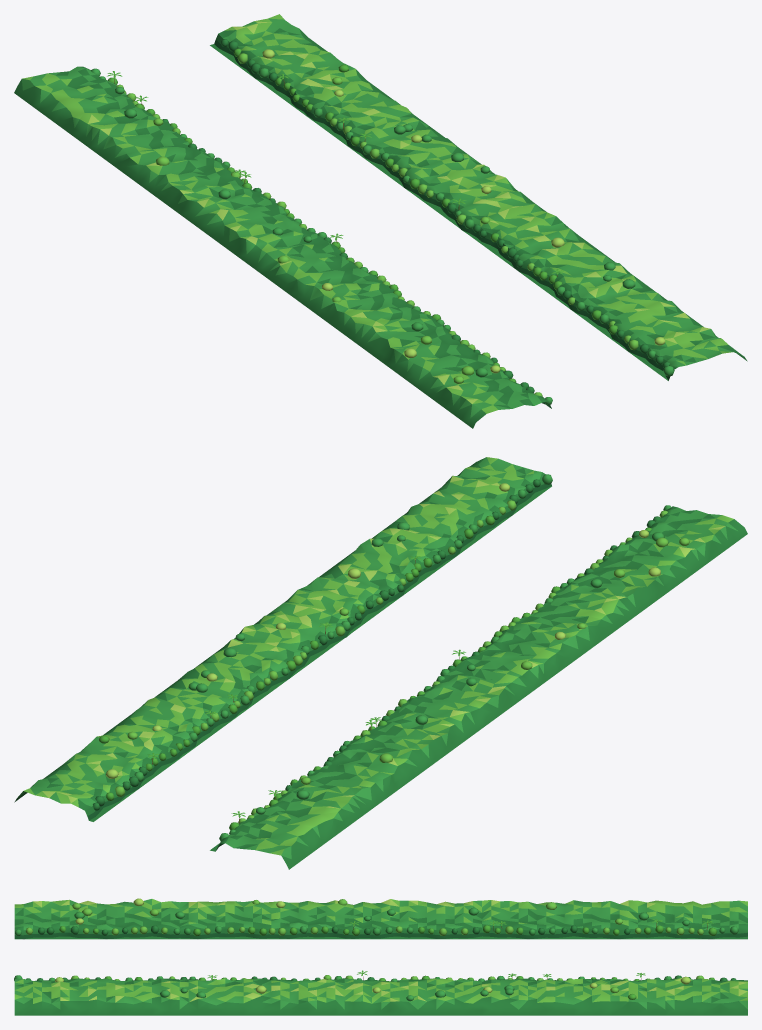
The model's file is BordeJungla.fbx.
The picture shows the model from 3 angles, top to bottom: view 1: azimuth 30°, elevation 25°; view 2: azimuth 150°, elevation 25°; view 3: azimuth 270°, elevation 25°; orthographic projection. The views are drawn at different scales.
Parts seen in each view (by area): view 1: BordeJungla; view 2: BordeJungla; view 3: BordeJungla.
Part boxes in pixels (x1,y1,x2,y2): BordeJungla: (14,14,747,428); BordeJungla: (14,457,747,869); BordeJungla: (14,898,747,1015).
Bounding box in the file's own units: 692 × 47.54 × 2002.
Materials: 1 (1 with a texture image).
